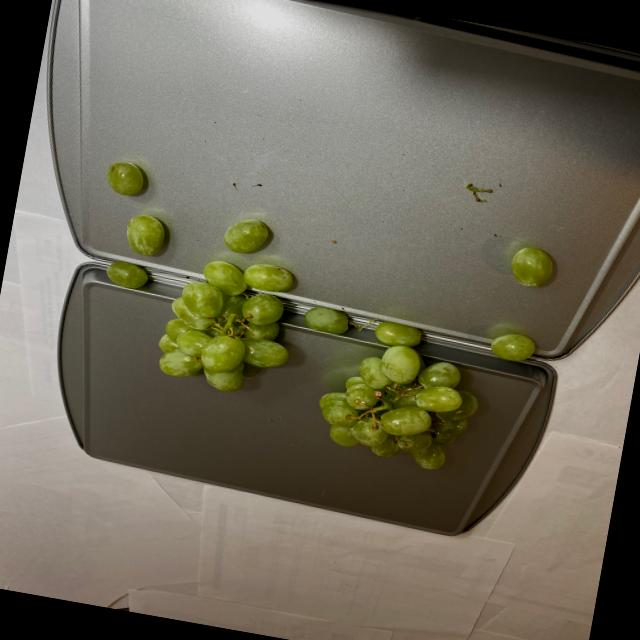grapes: (72, 160, 552, 483)
